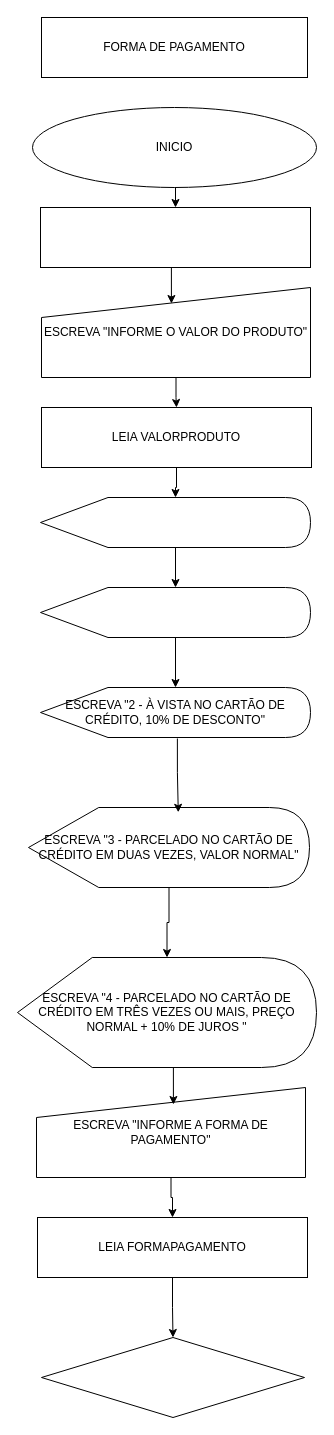
Some shapes in this 334 by 1435 pixel diagram are drawn without their labels. Each missing label, with the box of its shape:
ESCOLHA FORMAPAGAMENTO: (40, 1336, 304, 1418)
ESCREVA "1 - À VISTA EM DINHEIRO OU PIX, 15% DE DESCONTO": (40, 586, 310, 638)
ESCREVA "TABELA DE CÓDIGO DE CONDIÇÕES DE PAGAMENTO": (40, 496, 310, 548)
INTEIRO FORMAPAGAMENTO REAL VALORPRODUTO, VALORFINAL: (40, 206, 310, 268)
